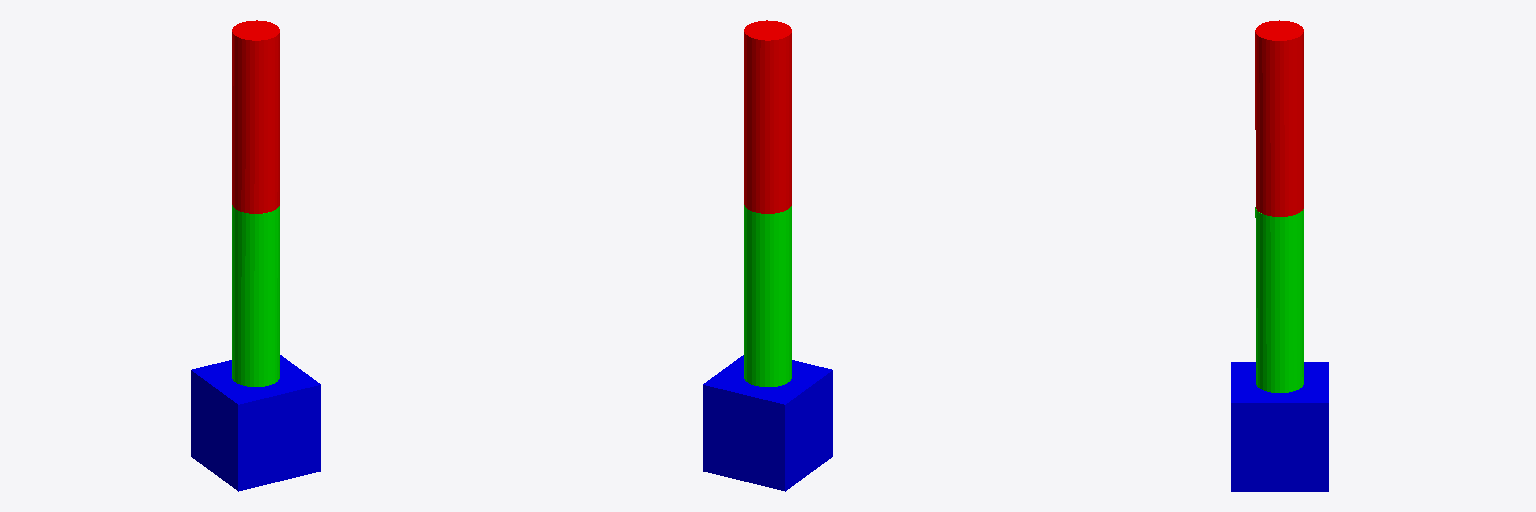
robot.urdf — simple_2dof_arm:
<?xml version="1.0"?>
<robot name="simple_2dof_arm">
  <!-- Link 1 -->
  <link name="base_link">
    <visual>
      <geometry>
        <box size="0.1 0.1 0.1"/>
      </geometry>
      <material name="blue">
        <color rgba="0 0 1 1"/>
      </material>
    </visual>
    <inertial>
      <origin xyz="0 0 0.25" rpy="0 0 0"/>
      <mass value="1.0"/>
      <inertia ixx="0.01" ixy="0.0" ixz="0.0" iyy="0.01" iyz="0.0" izz="0.01"/>
    </inertial>
  </link>

  <!-- Joint 1 -->
  <joint name="joint1" type="revolute">
    <parent link="base_link"/>
    <child link="link1"/>
    <origin xyz="0 0 0.05" rpy="-1.57 0 0"/>
    <axis xyz="0 0 1"/>
    <limit lower="-1.57" upper="1.57" effort="10" velocity="1"/>
  </joint>

  <!-- Link 2 -->
  <link name="link1">
    <visual>
      <origin xyz="0 -0.1 0" rpy="-1.57 0 0"/>
      <geometry>
        <cylinder length="0.2" radius="0.025"/>
      </geometry>
      <material name="green">
        <color rgba="0 1 0 1"/>
      </material>
    </visual>
    <inertial>
      <origin xyz="0 0 0.1" rpy="0 0 0"/>
      <mass value="1.0"/>
      <inertia ixx="0.01" ixy="0.0" ixz="0.0" iyy="0.01" iyz="0.0" izz="0.01"/>
    </inertial>
  </link>

  <!-- Joint 2 -->
  <joint name="joint2" type="revolute">
    <parent link="link1"/>
    <child link="link2"/>
    <origin xyz="0 -0.2 0" rpy="0 0 0"/>
    <axis xyz="0 0 1"/>
    <limit lower="-1.57" upper="1.57" effort="10" velocity="1"/>
  </joint>

  <!-- Link 3 -->
  <link name="link2">
    <visual>
      <origin xyz="0 -0.1 0" rpy="-1.57 0 0"/>
      <geometry>
        <cylinder length="0.2" radius="0.025"/>
      </geometry>
      <material name="red">
        <color rgba="1 0 0 1"/>
      </material>
    </visual>
    <inertial>
      <origin xyz="0 0 0.1" rpy="0 0 0"/>
      <mass value="1.0"/>
      <inertia ixx="0.01" ixy="0.0" ixz="0.0" iyy="0.01" iyz="0.0" izz="0.01"/>
    </inertial>
  </link>
</robot>

--- What the picture shows (computed from the rendered views, not written in the file) ---
Views: 3 orthographic renders of the robot side by side, from view 1: azimuth 30°, elevation 25°; view 2: azimuth 150°, elevation 25°; view 3: azimuth 270°, elevation 25°.
Model simple_2dof_arm with 3 links and 2 joints (2 revolute), rooted at base_link, posed every joint at zero.
Visible links, largest first — view 1: base_link, link2, link1; view 2: base_link, link2, link1; view 3: base_link, link2, link1.
Boxes of the visible links, x1,y1,x2,y2 form: base_link: [191, 355, 320, 491]; link2: [232, 20, 279, 213]; link1: [232, 205, 279, 386]; base_link: [703, 355, 832, 491]; link2: [744, 20, 791, 213]; link1: [744, 205, 791, 386]; base_link: [1231, 362, 1328, 491]; link2: [1255, 20, 1303, 216]; link1: [1255, 207, 1303, 392].
Size in the robot's own frame: 0.1 by 0.1 by 0.5 metres.
Geometry: primitives only (box / cylinder / sphere), no mesh files.